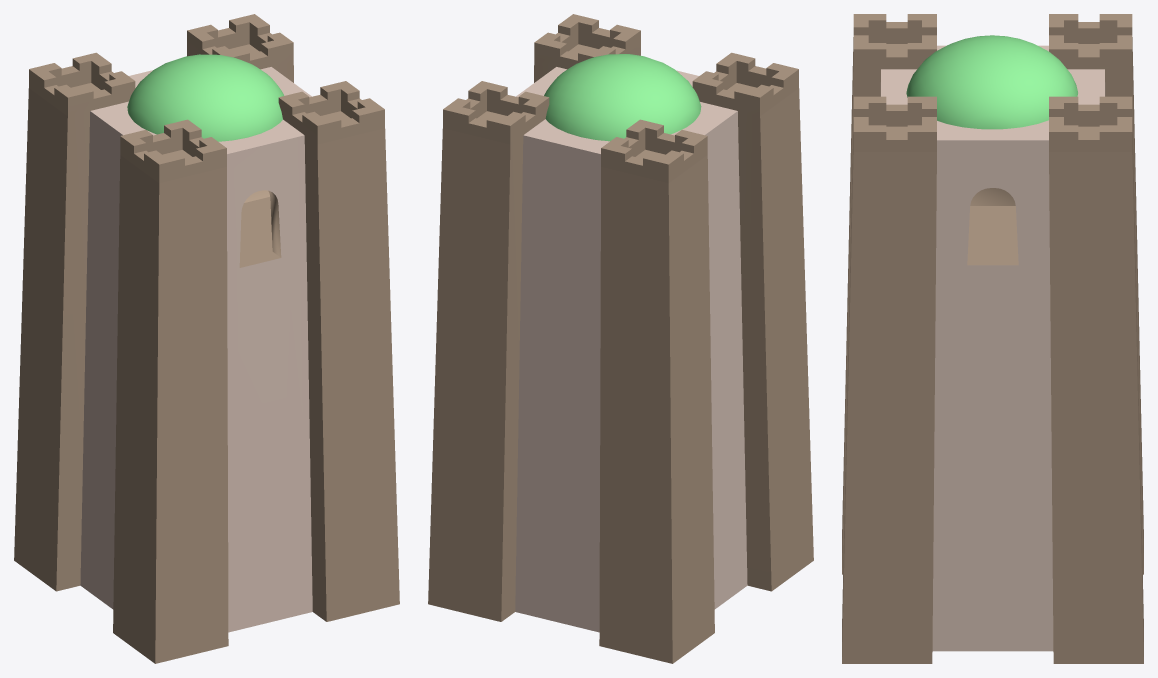
Rendered from DustCityRempartTower.fbx.
3 renders of one model, left to right at view 1: azimuth 30°, elevation 25°; view 2: azimuth 150°, elevation 25°; view 3: azimuth 270°, elevation 25°, orthographic. The views are drawn at different scales.
Visible parts, largest first — view 1: DustCityRempartTower; view 2: DustCityRempartTower; view 3: DustCityRempartTower.
Part boxes in pixels (x1,y1,x2,y2): DustCityRempartTower: (14,14,399,663); DustCityRempartTower: (428,14,813,663); DustCityRempartTower: (842,14,1143,663).
Size of the model in its own units: 135 by 135 by 273.
